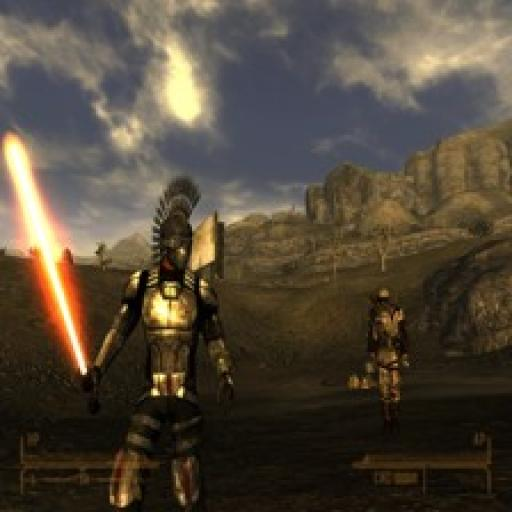human: (83, 173, 248, 512)
sith saber: (4, 135, 94, 396)
